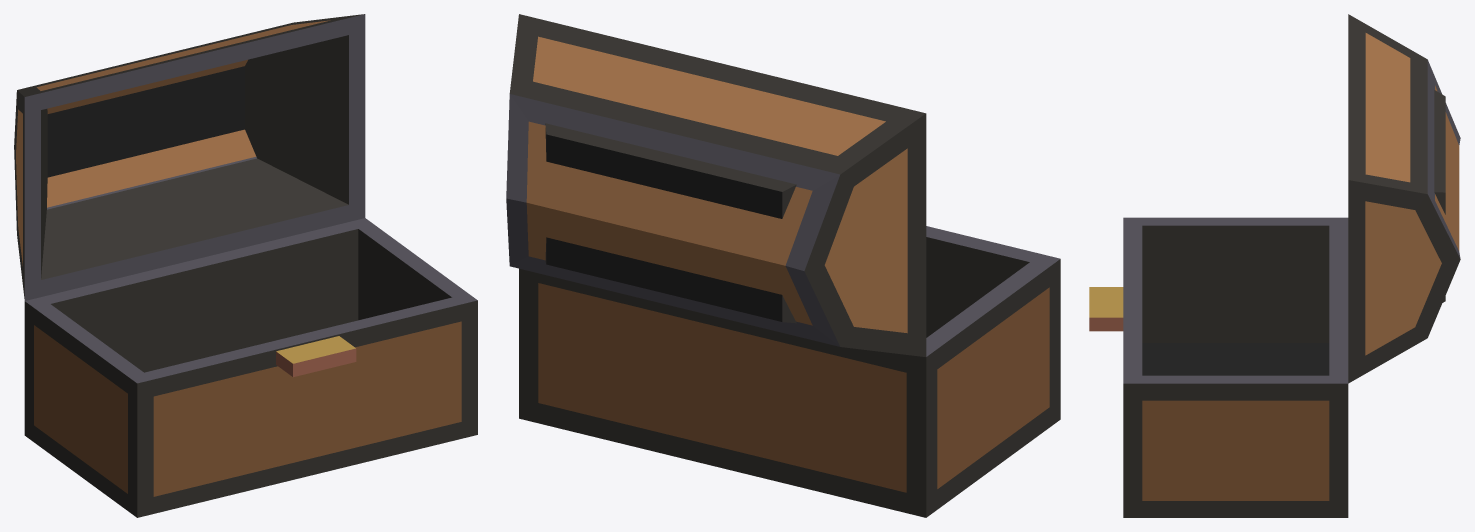
File: TB_D_Prop_ChestC_Open_B.FBX
The picture shows the model from 3 angles, left to right: view 1: azimuth 30°, elevation 25°; view 2: azimuth 150°, elevation 25°; view 3: azimuth 270°, elevation 25°; orthographic projection. The views are drawn at different scales.
Parts seen in each view (by area): view 1: TB_D_Prop_ChestC_Open_B; view 2: TB_D_Prop_ChestC_Open_B; view 3: TB_D_Prop_ChestC_Open_B.
Part boxes in pixels (x1,y1,x2,y2): TB_D_Prop_ChestC_Open_B: (14,14,477,517); TB_D_Prop_ChestC_Open_B: (506,14,1060,517); TB_D_Prop_ChestC_Open_B: (1089,14,1460,517).
Bounding box in the file's own units: 1.05 × 0.9932 × 0.9887.
